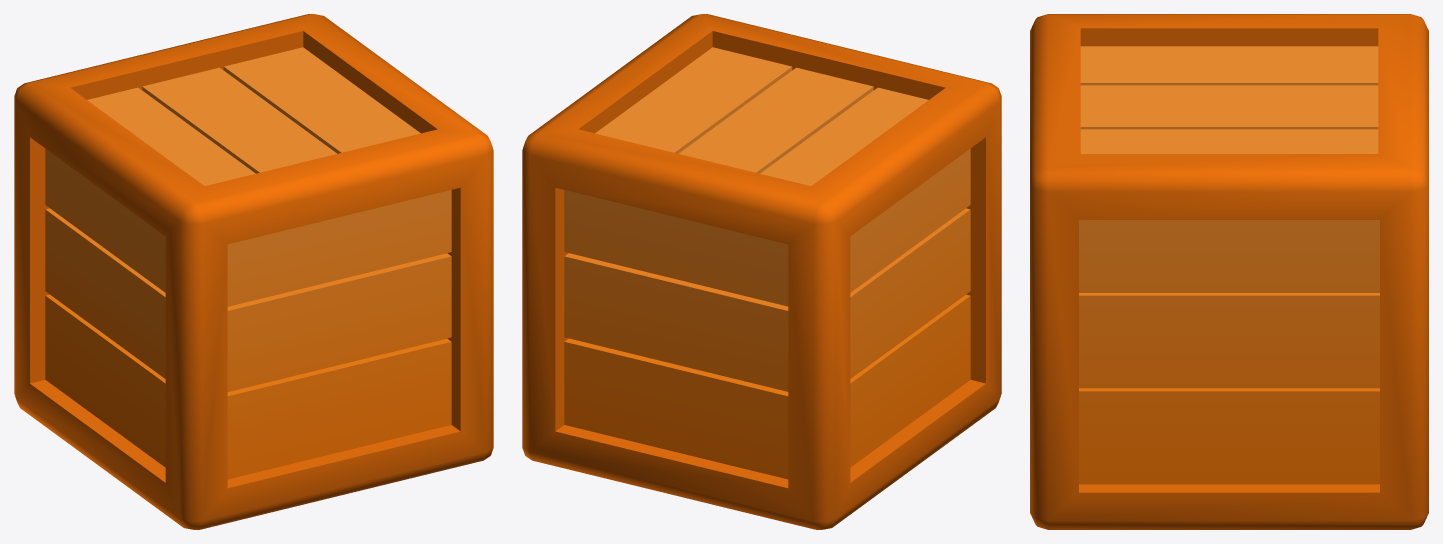
The model's file is Props_Crate_01.glb.
3 views of the same model, side by side, from view 1: azimuth 30°, elevation 25°; view 2: azimuth 150°, elevation 25°; view 3: azimuth 270°, elevation 25° (orthographic). The views are drawn at different scales.
Visible parts, largest first — view 1: Props_Crate_01; view 2: Props_Crate_01; view 3: Props_Crate_01.
Part boxes in pixels (x1,y1,x2,y2): Props_Crate_01: (14,14,493,529); Props_Crate_01: (522,14,1001,529); Props_Crate_01: (1030,14,1428,529).
Size of the model in its own units: 1.19 by 1.19 by 1.19.
1 material, 1 textured.
